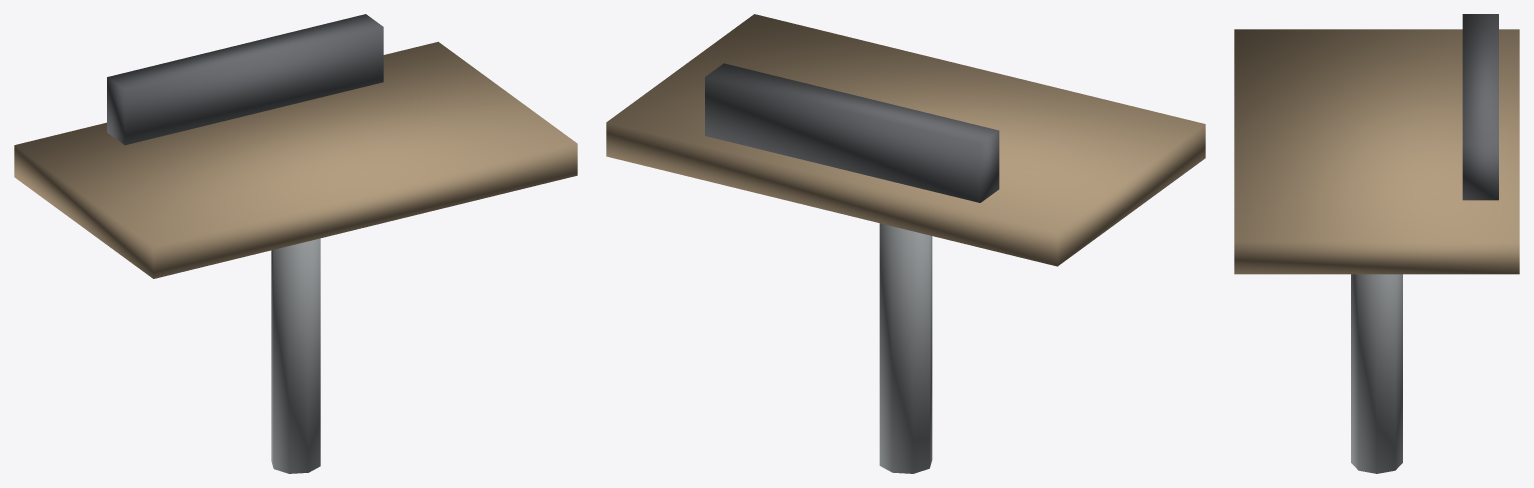
File: deposit_desk__squat.glb
The picture shows the model from 3 angles, left to right: view 1: azimuth 30°, elevation 25°; view 2: azimuth 150°, elevation 25°; view 3: azimuth 270°, elevation 25°; orthographic projection. The views are drawn at different scales.
Visible parts, largest first — view 1: world; view 2: world; view 3: world.
Part boxes in pixels (left/top/right/bottom): world: left=14, top=14, right=577, bottom=473; world: left=606, top=14, right=1205, bottom=473; world: left=1234, top=14, right=1519, bottom=473.
Bounding box in the file's own units: 1.04 × 0.882 × 0.594.
